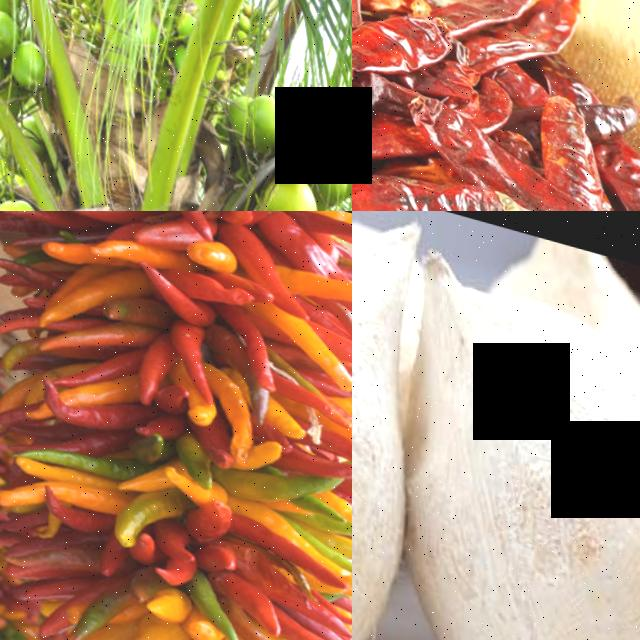chilli: (220, 213, 325, 315), (156, 308, 220, 393), (47, 211, 139, 227), (165, 211, 221, 234)
coconut: (352, 250, 640, 640), (352, 211, 458, 640)
coconuts: (216, 54, 352, 160), (223, 146, 352, 211)
